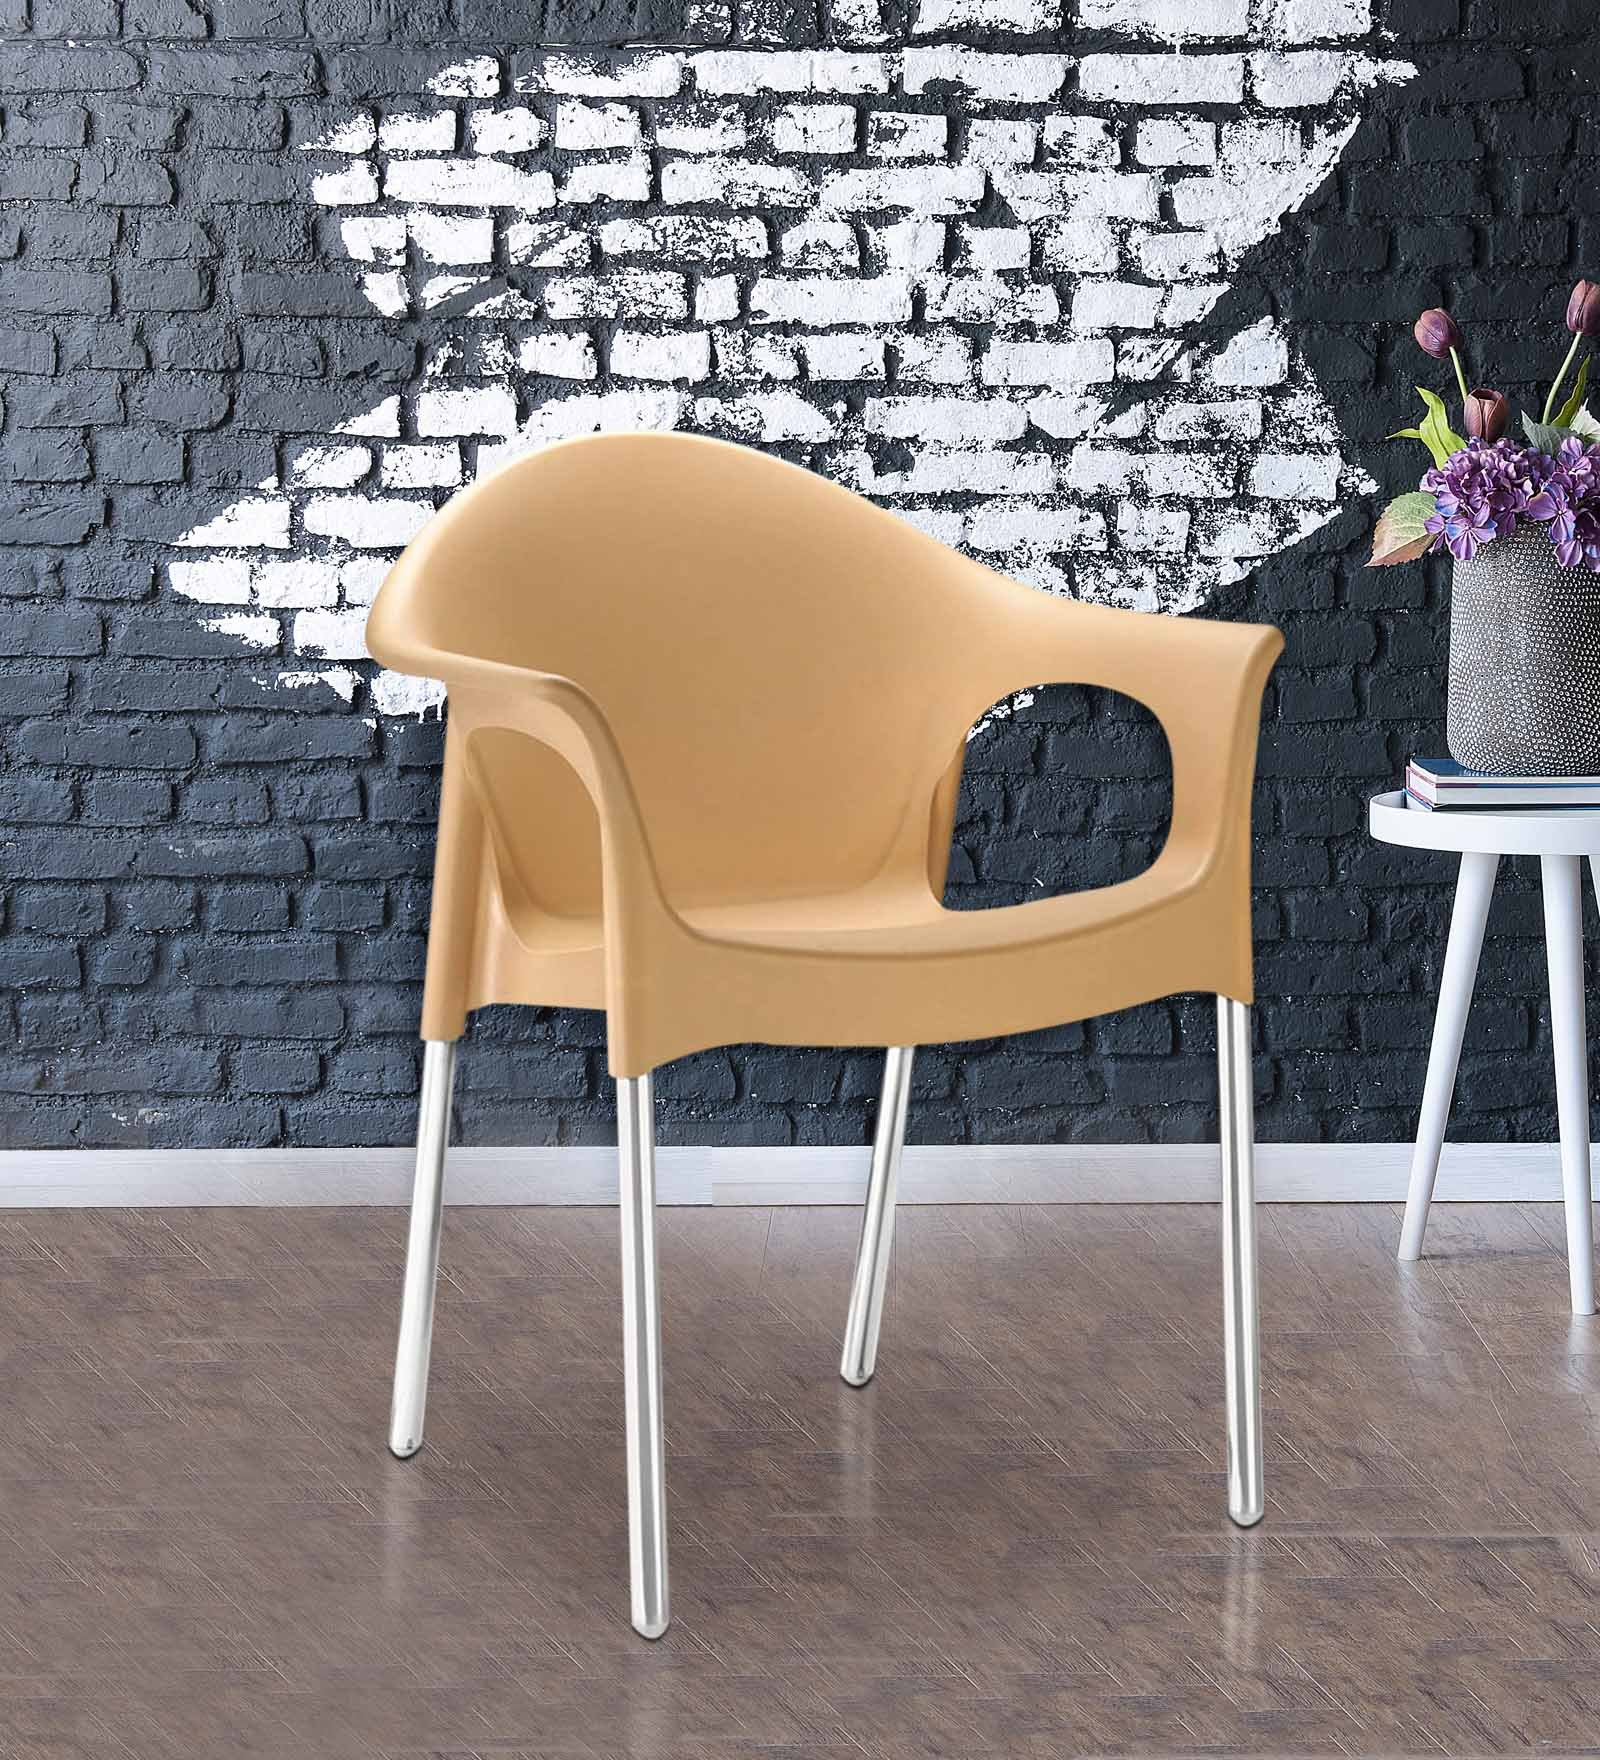Novella Chair in Biscuit Colour by Nilkamal: (365, 428, 1284, 1643)
